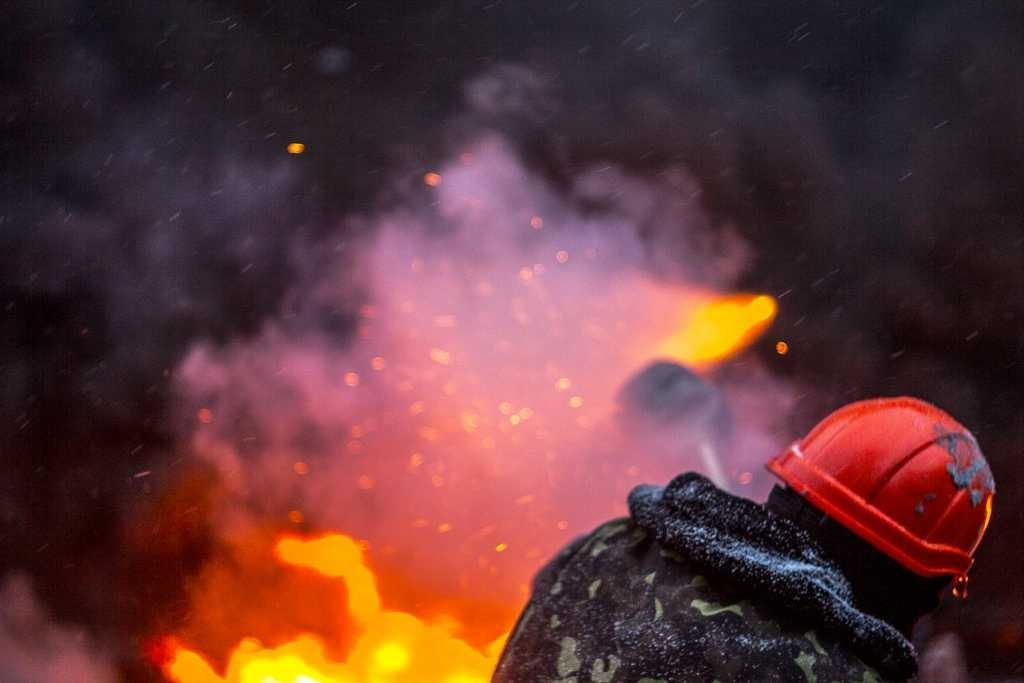fire: (243, 610, 477, 677), (683, 310, 757, 360)
smoke: (363, 228, 612, 498)
